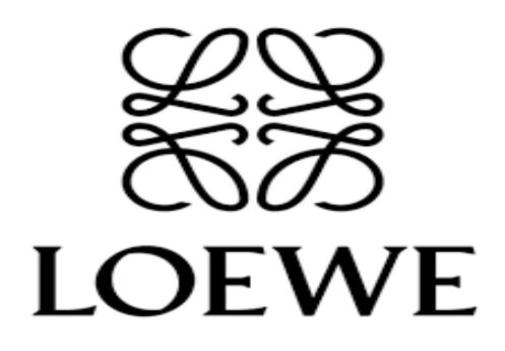LOEWE: (28, 6, 490, 336)
